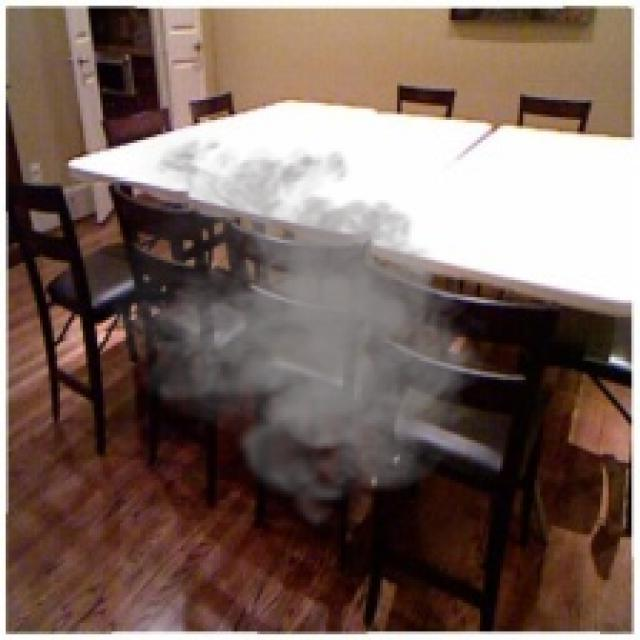smoke: (89, 126, 497, 528)
